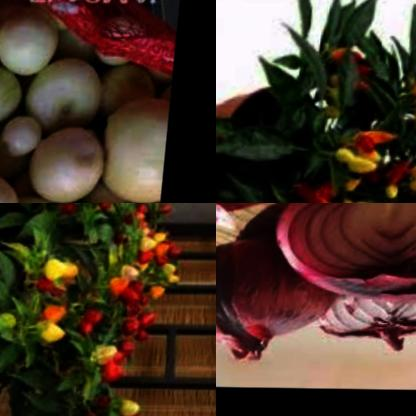hot pepper: (107, 219, 191, 377), (277, 105, 410, 203), (304, 25, 375, 110), (72, 290, 122, 361), (23, 295, 79, 358), (33, 251, 94, 299), (94, 373, 157, 416), (389, 62, 416, 159), (377, 146, 416, 203), (75, 401, 118, 416)
onion: (0, 0, 179, 203), (216, 230, 338, 371), (270, 203, 416, 309), (305, 285, 416, 346), (216, 203, 253, 294)
